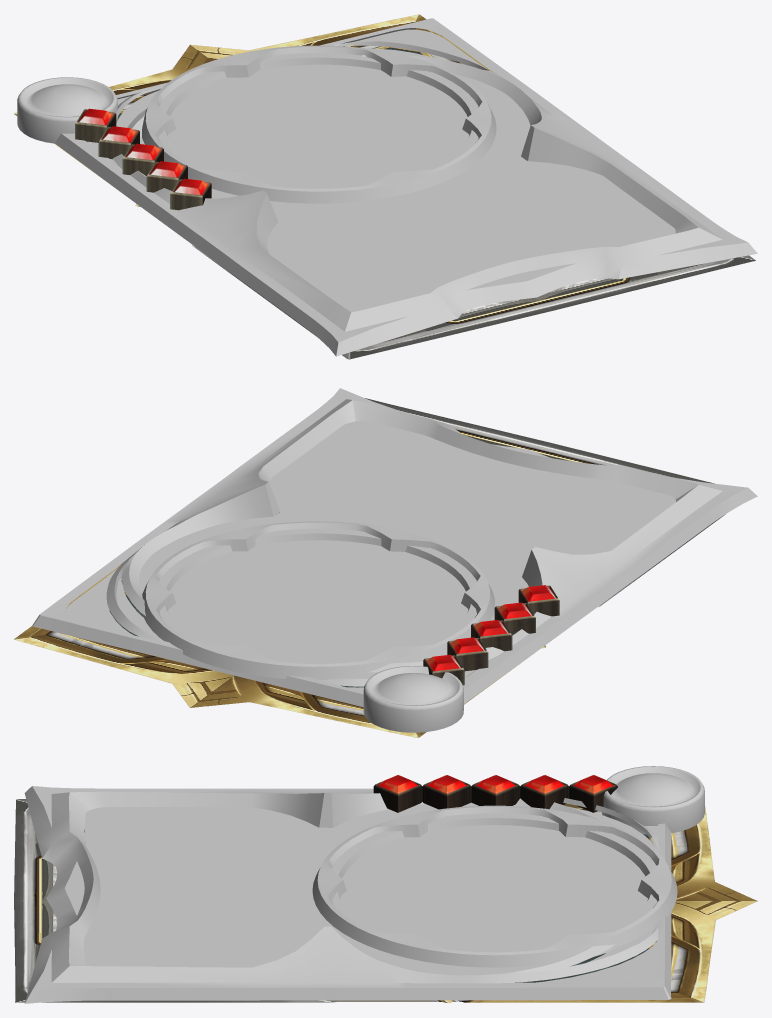
The model's file is spell-onhand-3d.fbx.
The picture shows the model from 3 angles, top to bottom: view 1: azimuth 30°, elevation 25°; view 2: azimuth 150°, elevation 25°; view 3: azimuth 270°, elevation 25°; orthographic projection. The views are drawn at different scales.
Parts seen in each view (by area): view 1: print.001, frame.001, back.001, shard.005, shard.009, shard.006, shard.007, shard.008; view 2: print.001, frame.001, back.001, shard.006, shard.008, shard.009, shard.007, shard.005; view 3: print.001, frame.001, back.001, shard.008, shard.009, shard.007, shard.006, shard.005.
Part boxes in pixels (<box>): print.001: <box>89,29,675,311</box>; frame.001: <box>17,18,757,356</box>; back.001: <box>14,14,755,359</box>; shard.005: <box>75,108,116,142</box>; shard.009: <box>170,178,211,210</box>; shard.006: <box>98,126,139,159</box>; shard.007: <box>122,143,163,176</box>; shard.008: <box>146,161,187,192</box>; print.001: <box>65,421,675,691</box>; frame.001: <box>32,388,757,732</box>; back.001: <box>14,398,725,737</box>; shard.006: <box>447,637,488,671</box>; shard.008: <box>494,602,535,634</box>; shard.009: <box>518,585,559,616</box>; shard.007: <box>471,620,512,651</box>; shard.005: <box>423,654,464,685</box>; print.001: <box>84,802,658,982</box>; frame.001: <box>24,766,704,1003</box>; back.001: <box>14,799,757,1002</box>; shard.008: <box>422,775,471,809</box>; shard.009: <box>373,775,422,812</box>; shard.007: <box>471,775,520,805</box>; shard.006: <box>520,775,569,809</box>; shard.005: <box>569,775,617,812</box>.
Bounding box in the file's own units: 52.59 × 4.67 × 77.52.
